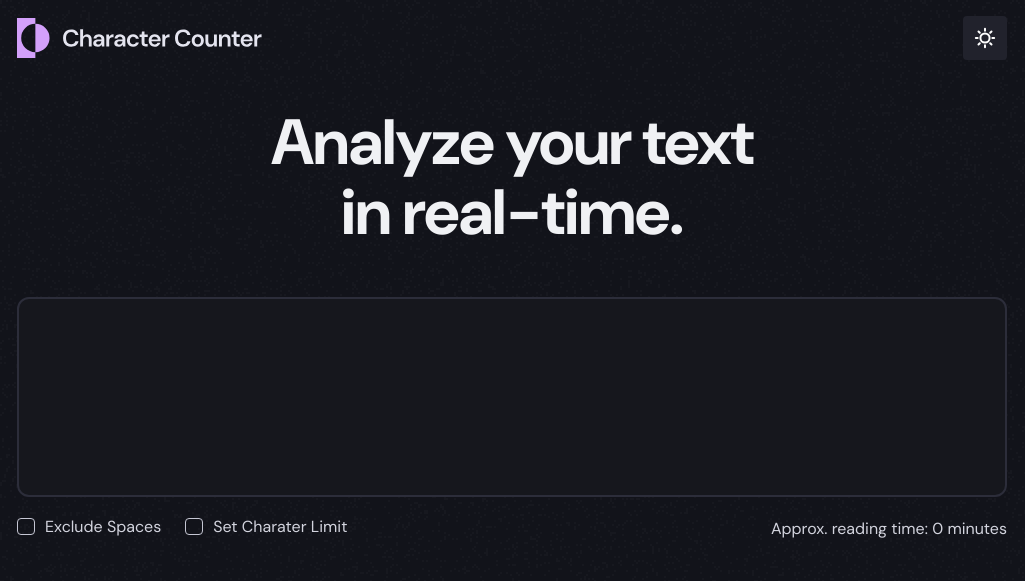
it: Character limit › should remove the exceed error message when the limit is increased
Click the checkbox labelled "Set Charater Limit" at point(194, 527), box [185,518,203,536]
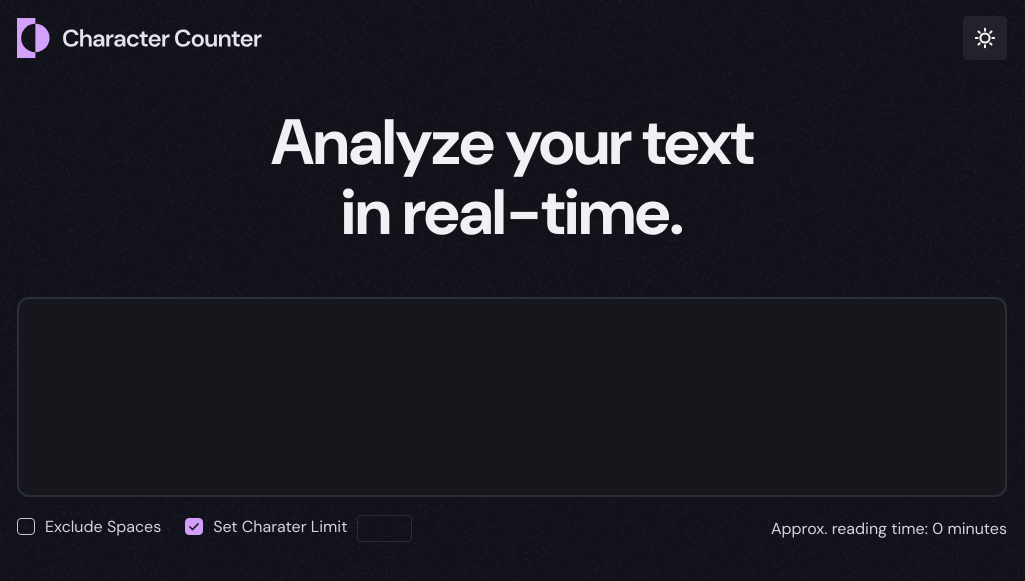
Type "10" into the field at point(385, 529), box [357,515,412,543]
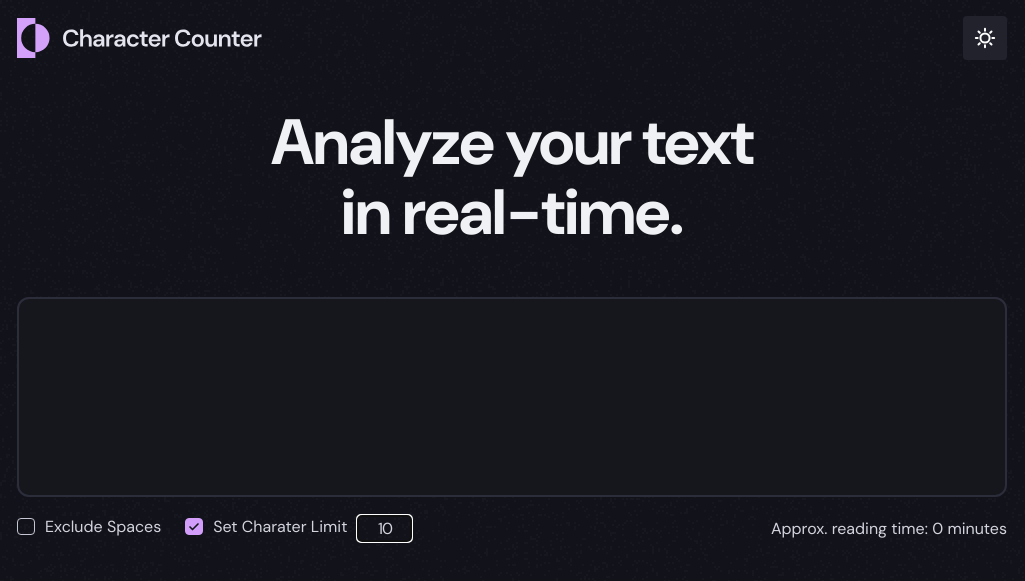
Type "LoremLorem, ipsum dolor." into the text box with test id "text-area-input" at point(512, 397), box [17,297,1007,497]
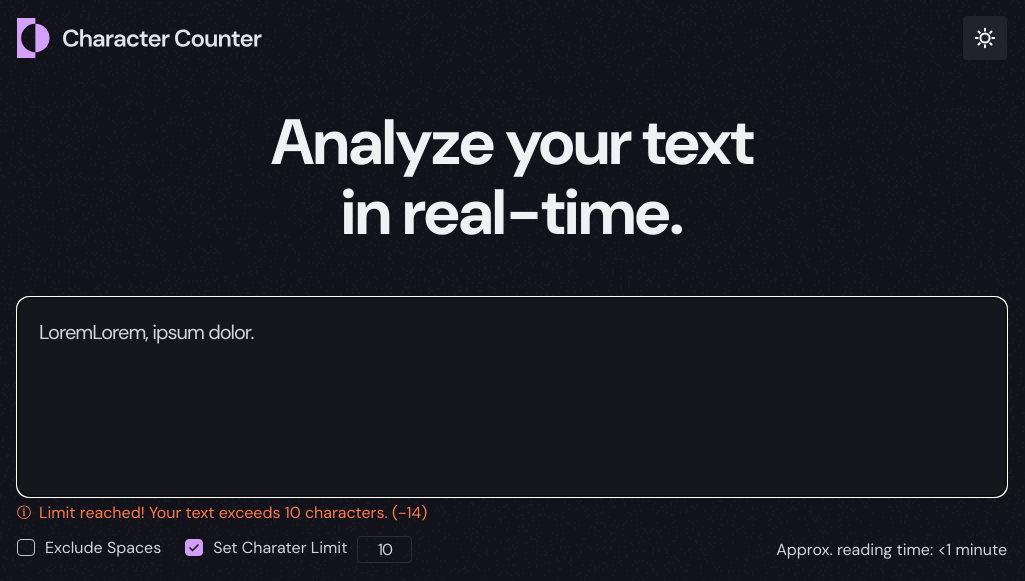
Check: the element with test id "exceed-error" reads "Limit reached! Your text exceeds 10 characters. (-14)", box [17,502,427,523]
Replace the text in the field with "20" at point(385, 550), box [357,536,412,564]
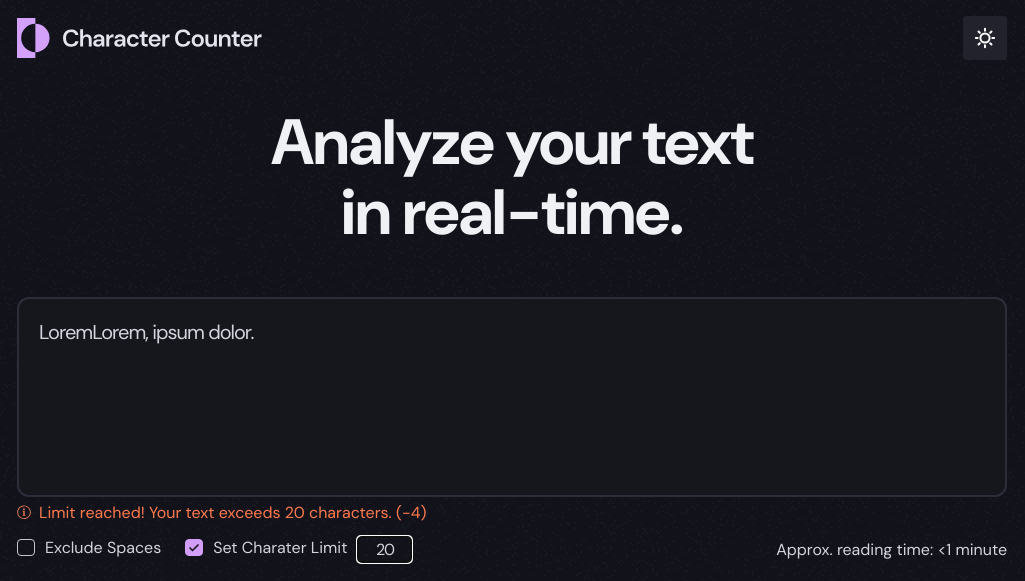
Check: the element with test id "exceed-error" reads "Limit reached! Your text exceeds 20 characters. (-4)", box [17,502,426,523]
Replace the text in the field with "30" at point(385, 550), box [357,536,412,564]
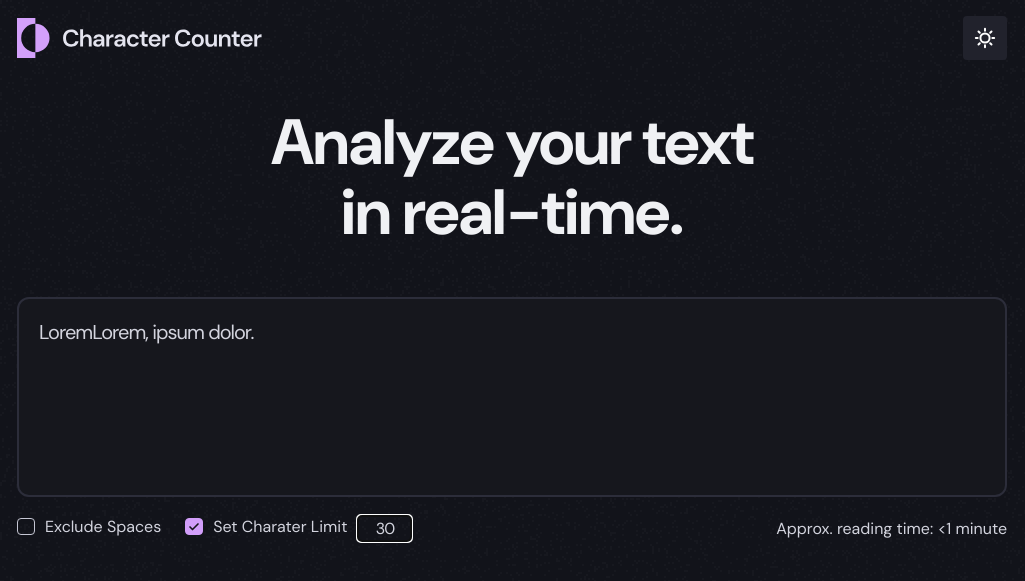
Check: the element with test id "exceed-error" is gone
